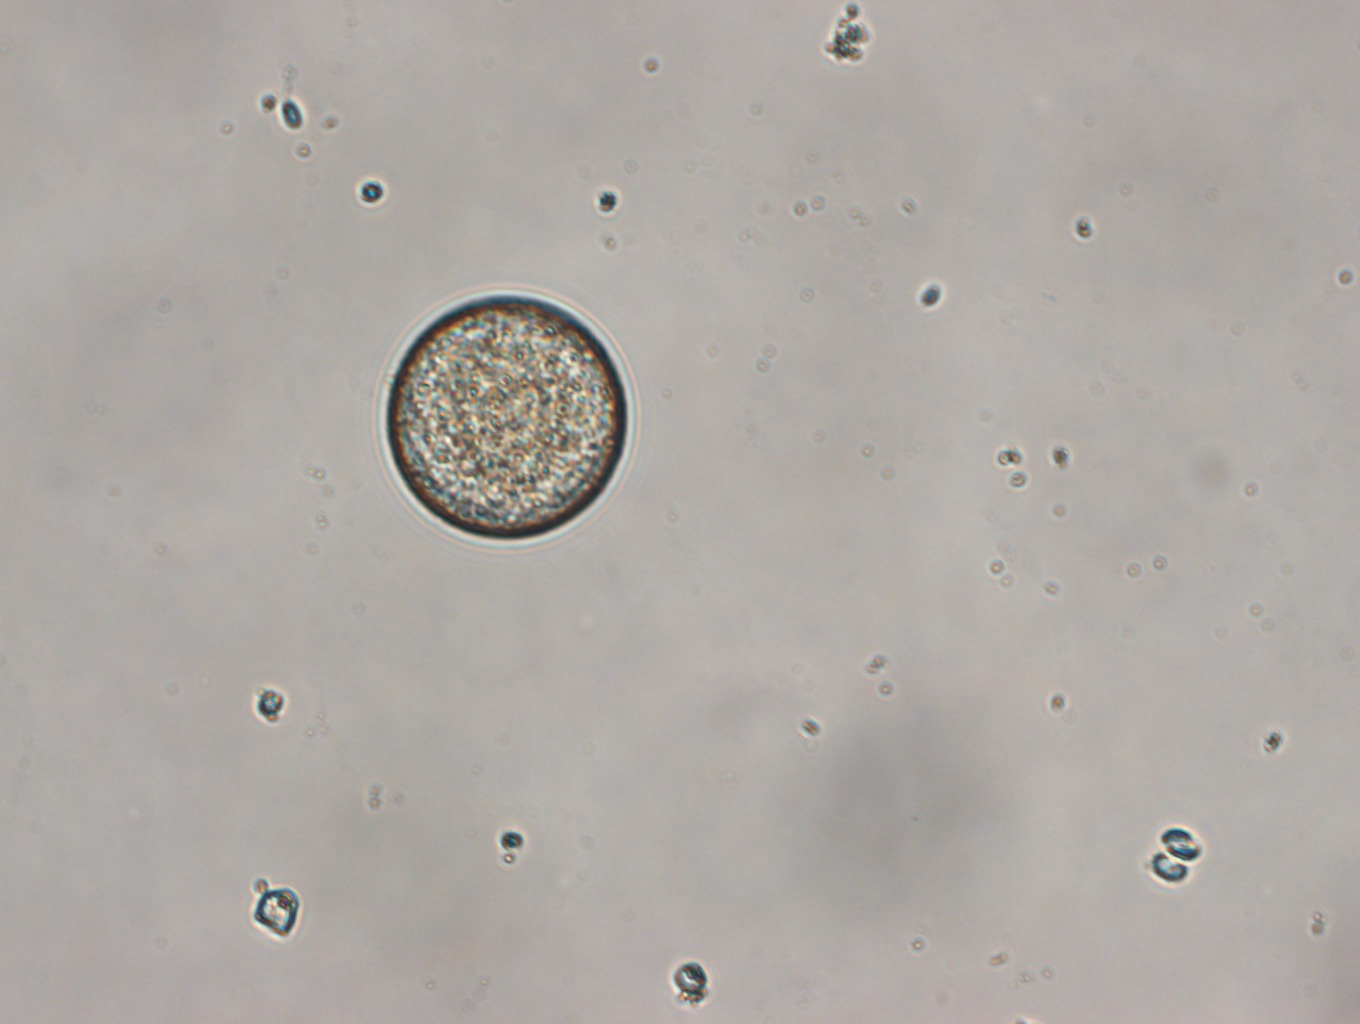coscinodiscus: (377, 280, 636, 547)
